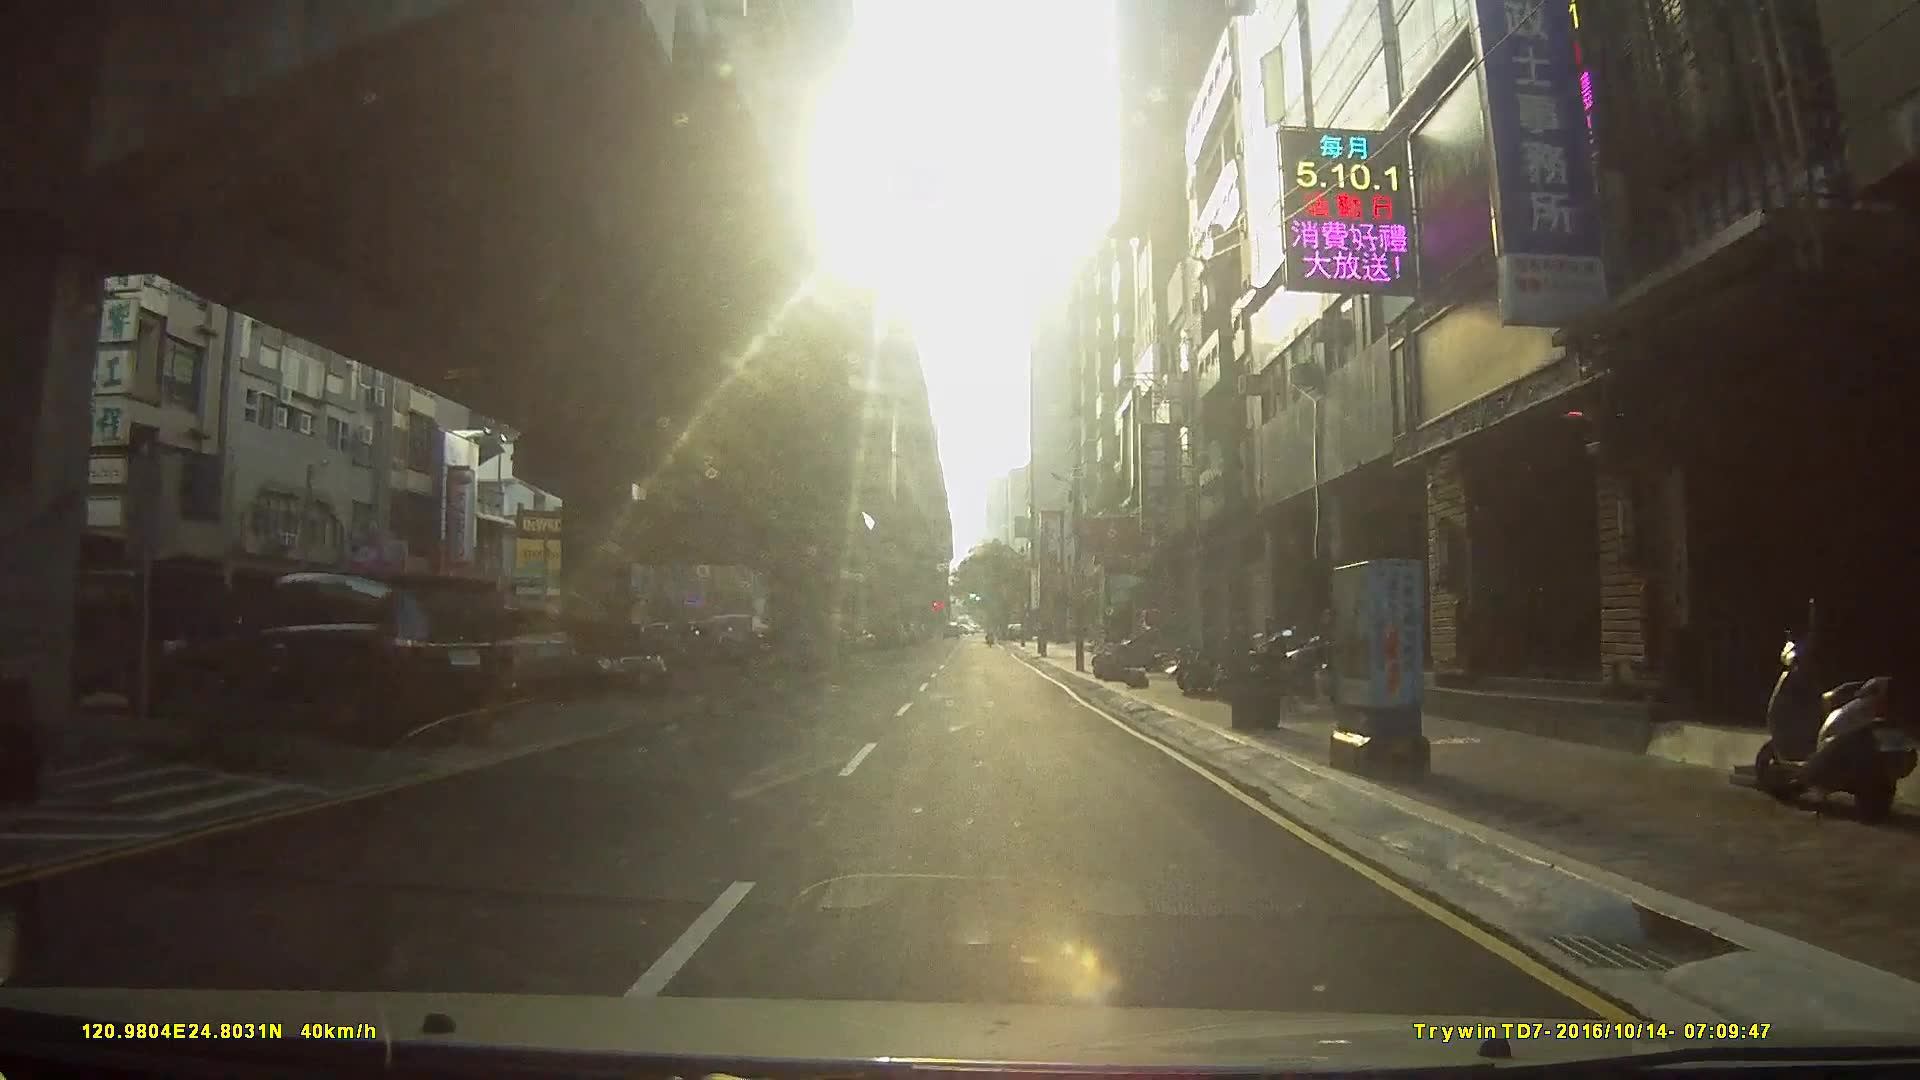vehicle: (175, 568, 514, 742), (42, 564, 253, 715), (423, 604, 578, 702), (530, 620, 669, 698)
